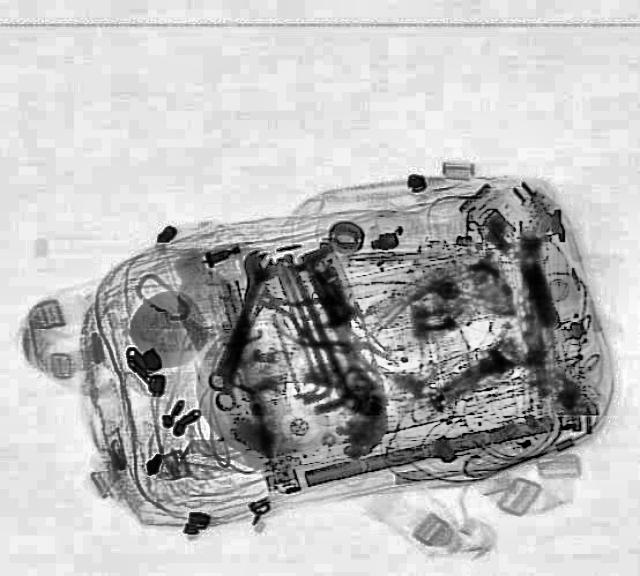Wrench: (196, 246, 280, 392), (206, 246, 280, 410)
